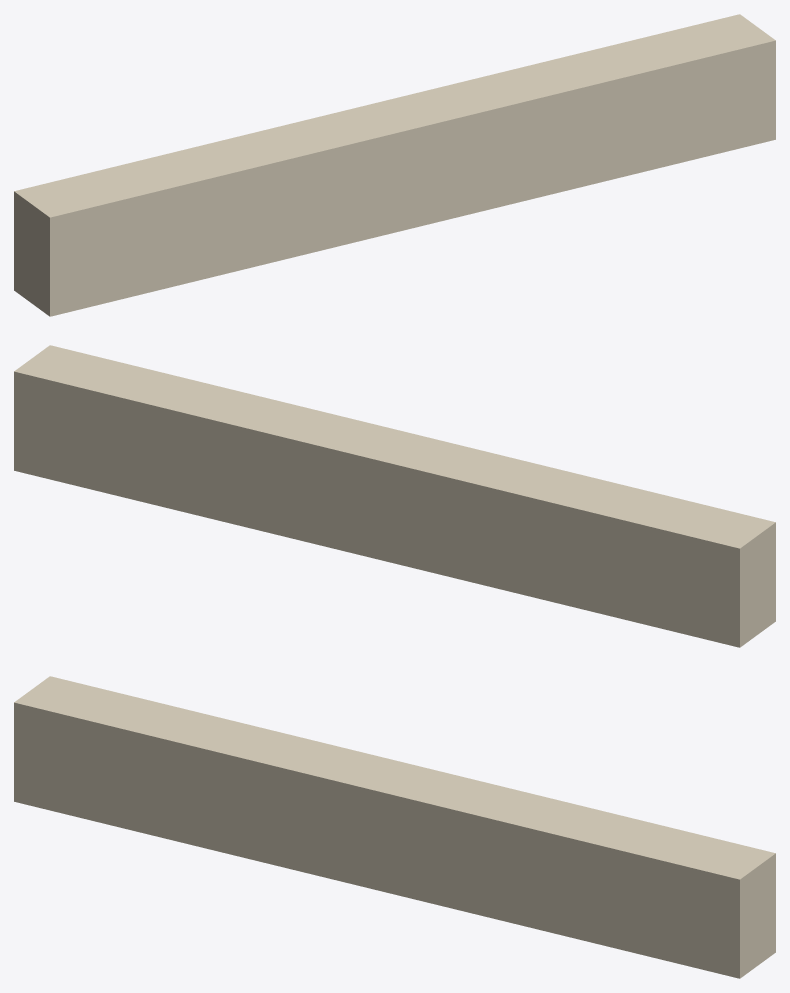
3 views of the same model, one above another, from view 1: azimuth 30°, elevation 25°; view 2: azimuth 150°, elevation 25°; view 3: azimuth 330°, elevation 25° (orthographic).
Visible parts, largest first — view 1: A-GF-WINDOW-009-HEAD; view 2: A-GF-WINDOW-009-HEAD; view 3: A-GF-WINDOW-009-HEAD.
Part boxes in pixels (box(x1,y1,x2,y2)): A-GF-WINDOW-009-HEAD: box(14, 14, 775, 316); A-GF-WINDOW-009-HEAD: box(14, 345, 775, 647); A-GF-WINDOW-009-HEAD: box(14, 676, 775, 978).
Bounding box in the file's own units: 3.6 × 0.47 × 0.3096.
